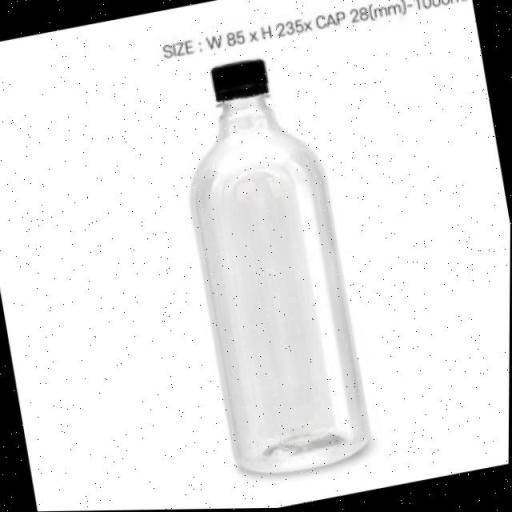plastic: (165, 50, 380, 486)
